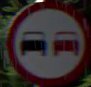No overtake: (6, 0, 89, 86)
